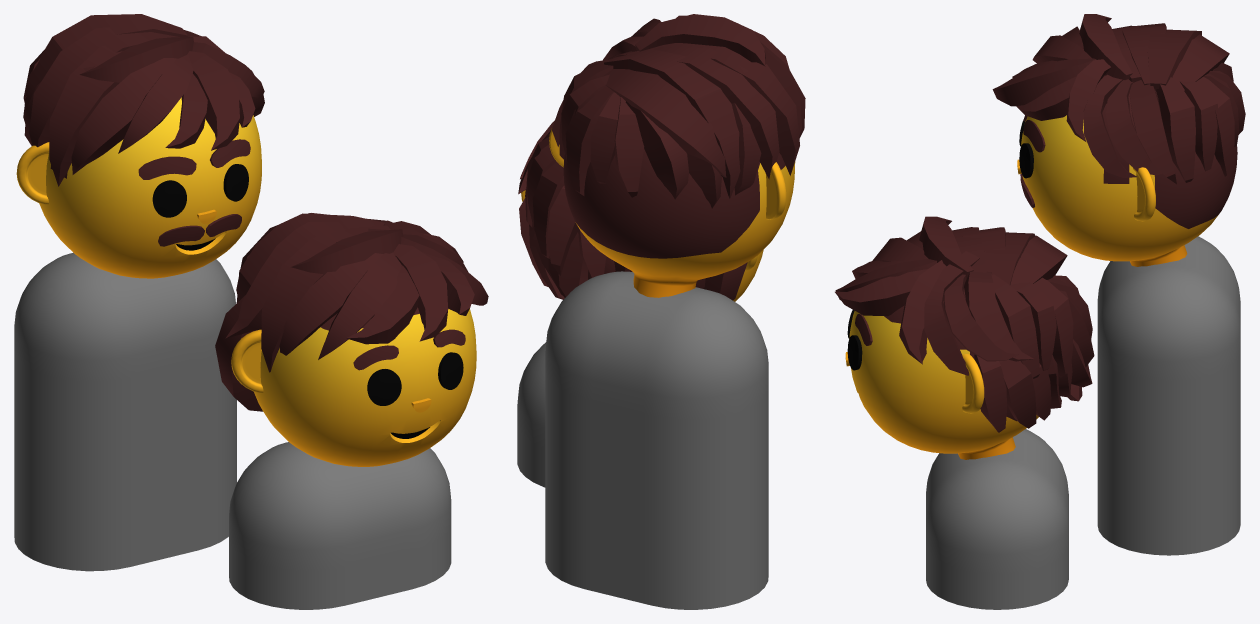
The model's file is family__man_boy.glb.
3 views of the same model, side by side, from view 1: azimuth 30°, elevation 25°; view 2: azimuth 150°, elevation 25°; view 3: azimuth 270°, elevation 25° (orthographic). The views are drawn at different scales.
Parts seen in each view (by area): view 1: Sphere.328, Sphere.327, Cube.5296, Cube.5328, Roundcube.397, Roundcube.398, Circle.1661, Circle.1658, Circle.1663, Cylinder.322, Cylinder.323, Circle.1664 (+1 smaller); view 2: Sphere.328, Cube.5328, Roundcube.398, Cube.5296, Sphere.327, Cylinder.323; view 3: Sphere.328, Cube.5296, Cube.5328, Sphere.327, Roundcube.398, Roundcube.397, Cylinder.322, Cylinder.323.
Boxes of the visible parts, left/top/right/bottom form: Sphere.328: left=14, top=252, right=236, bottom=571; Sphere.327: left=229, top=442, right=451, bottom=609; Cube.5296: left=215, top=213, right=488, bottom=411; Cube.5328: left=23, top=14, right=264, bottom=186; Roundcube.397: left=254, top=307, right=476, bottom=466; Roundcube.398: left=39, top=97, right=261, bottom=278; Circle.1661: left=152, top=164, right=248, bottom=217; Circle.1658: left=367, top=352, right=463, bottom=405; Circle.1663: left=138, top=139, right=250, bottom=179; Cylinder.322: left=231, top=329, right=263, bottom=393; Cylinder.323: left=16, top=142, right=49, bottom=204; Circle.1664: left=158, top=214, right=241, bottom=246; Sphere.328: left=545, top=271, right=768, bottom=609; Cube.5328: left=551, top=14, right=805, bottom=208; Roundcube.398: left=563, top=148, right=795, bottom=297; Cube.5296: left=518, top=120, right=747, bottom=300; Sphere.327: left=517, top=342, right=546, bottom=487; Cylinder.323: left=549, top=128, right=786, bottom=219; Sphere.328: left=1097, top=236, right=1240, bottom=555; Cube.5296: left=835, top=216, right=1094, bottom=432; Cube.5328: left=992, top=14, right=1245, bottom=184; Sphere.327: left=926, top=429, right=1068, bottom=609; Roundcube.398: left=1021, top=75, right=1237, bottom=266; Roundcube.397: left=849, top=288, right=1038, bottom=459; Cylinder.322: left=962, top=354, right=984, bottom=413; Cylinder.323: left=1133, top=167, right=1155, bottom=221.
Bounding box in the file's own units: 2.1 × 2.93 × 2.28.
Materials: 1 (1 with a texture image).
